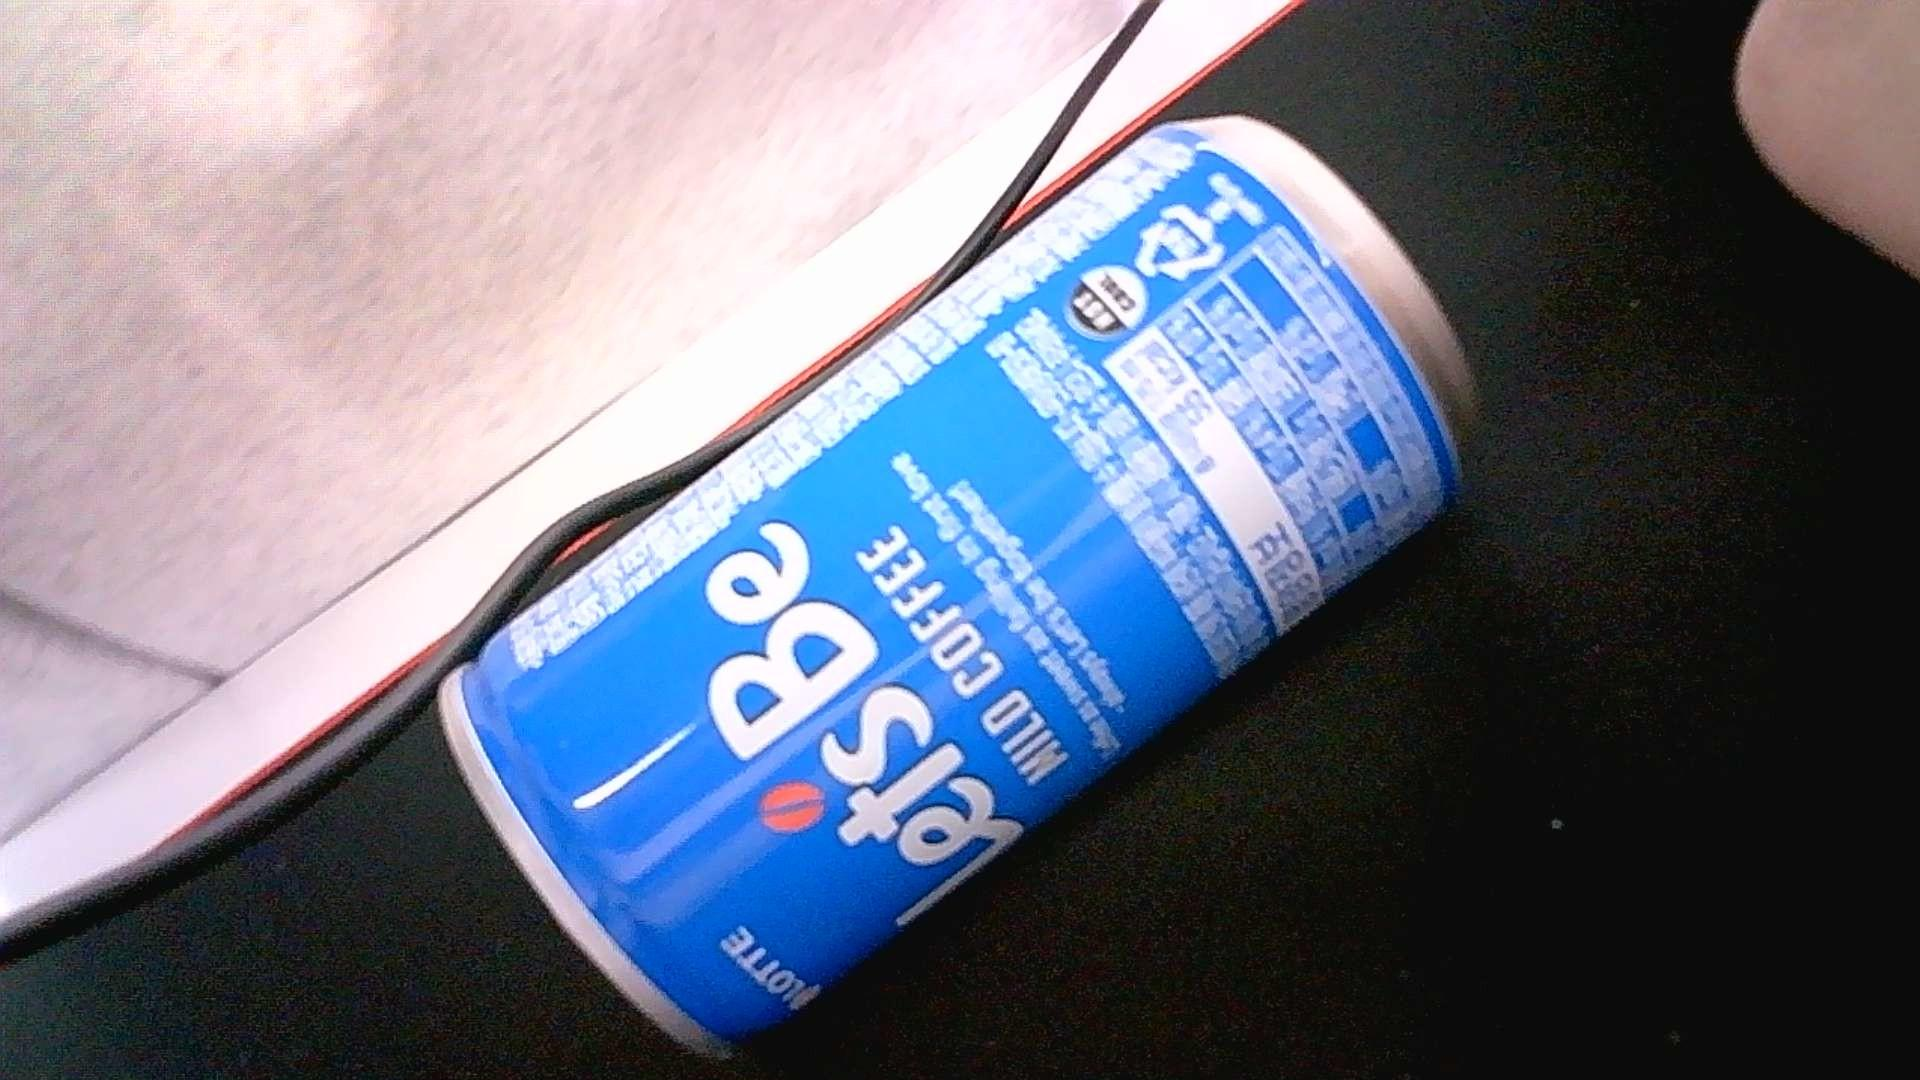letsbe: (435, 116, 1480, 1060)
